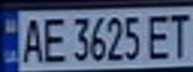2: (106, 12, 127, 63)
3: (66, 14, 90, 63)
5: (121, 12, 148, 62)
6: (87, 12, 109, 63)
A: (18, 15, 45, 64)
E: (39, 13, 69, 64), (145, 11, 175, 61)
T: (163, 9, 193, 60)
